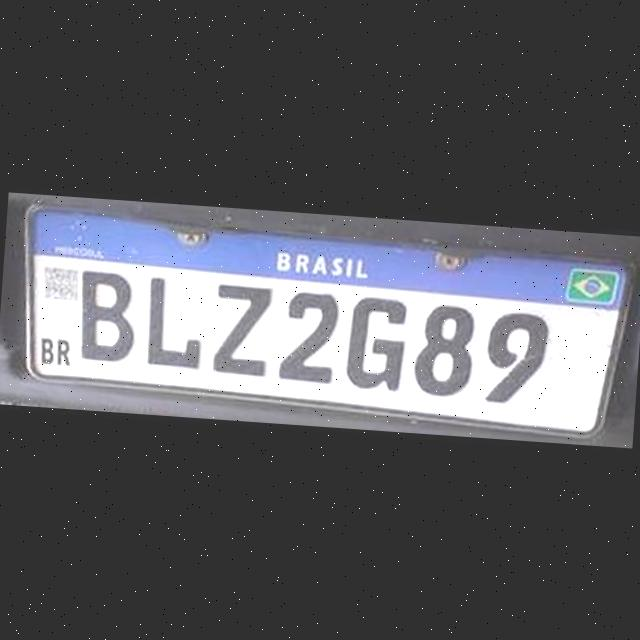Caractere: (481, 307, 555, 408), (70, 264, 142, 366), (342, 291, 412, 393), (408, 298, 478, 399), (140, 272, 207, 373), (278, 284, 344, 386), (210, 278, 276, 380)
Placa: (12, 206, 636, 440)
